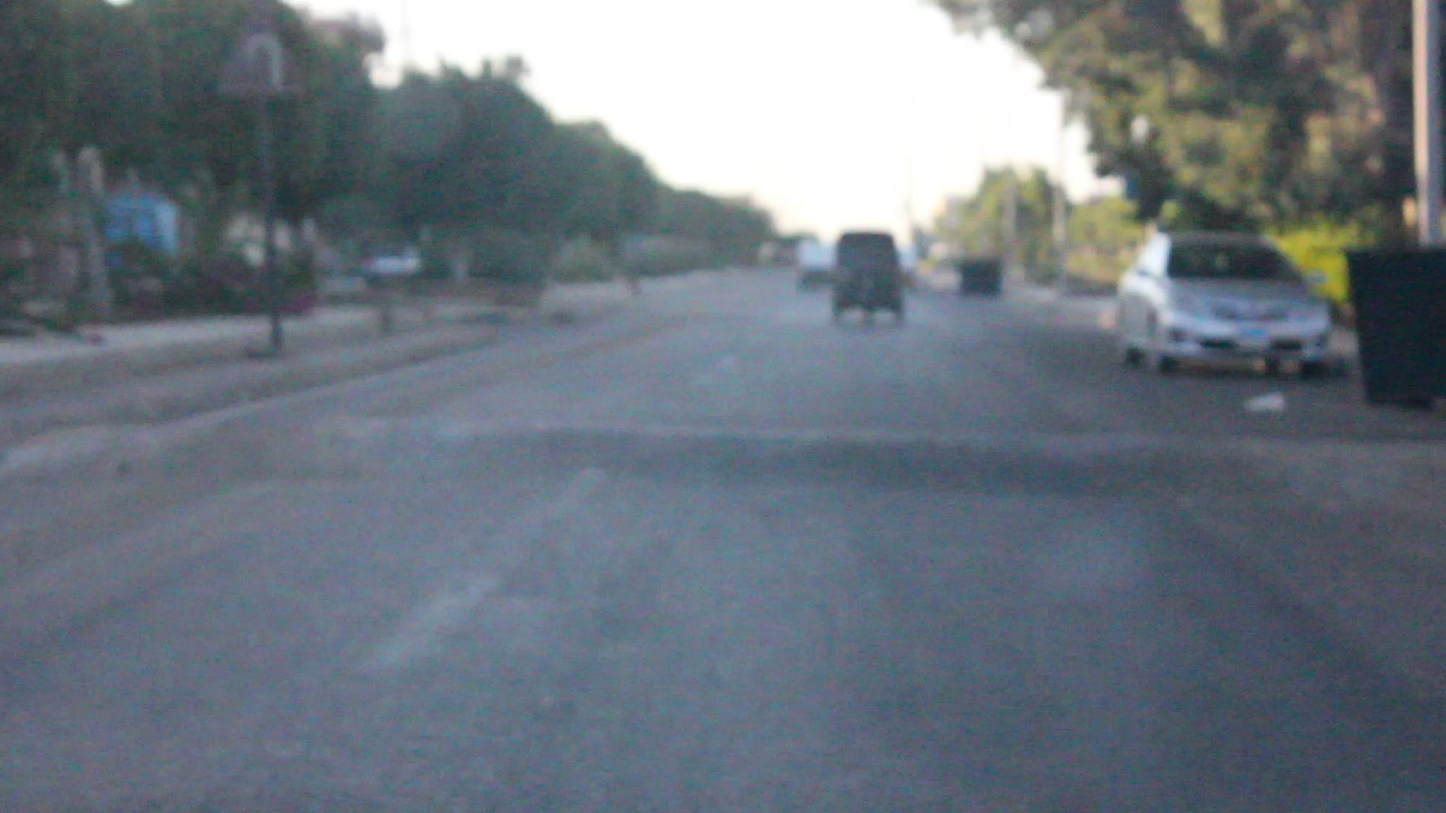Bump: (139, 420, 1446, 506)
